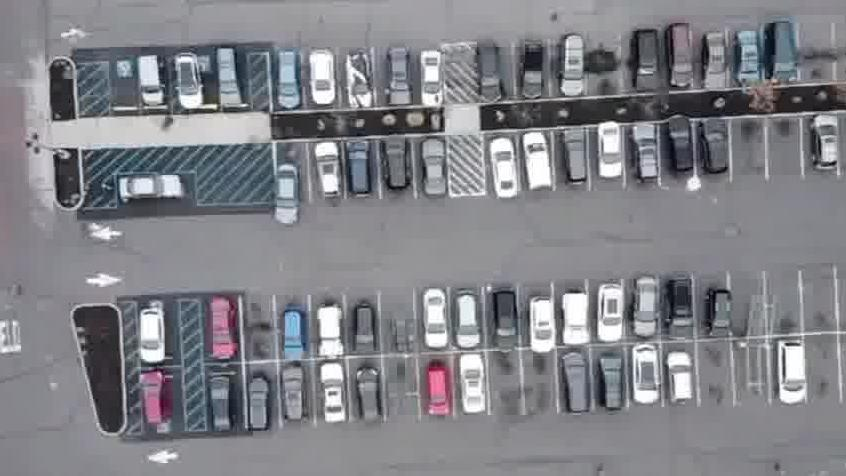car: (455, 351, 493, 418), (778, 339, 813, 409), (769, 20, 805, 85), (633, 28, 668, 93), (491, 135, 526, 200), (120, 169, 191, 201), (671, 22, 702, 91), (701, 119, 737, 178), (318, 363, 351, 427), (563, 353, 595, 419), (633, 347, 667, 409), (314, 138, 347, 201), (668, 115, 701, 178), (599, 352, 631, 415), (492, 290, 523, 355), (478, 39, 509, 103), (526, 133, 559, 193), (527, 296, 561, 354), (668, 278, 699, 341), (670, 348, 701, 411), (563, 129, 595, 190), (209, 294, 239, 359), (272, 162, 301, 227), (424, 285, 453, 350), (563, 31, 591, 98), (355, 363, 386, 423), (424, 362, 455, 422), (210, 367, 239, 431), (561, 290, 593, 348), (176, 51, 209, 107), (459, 287, 487, 353), (599, 284, 629, 345), (423, 137, 452, 199), (812, 115, 843, 173), (384, 135, 414, 194), (350, 138, 379, 199), (318, 300, 349, 357), (312, 47, 341, 107), (389, 45, 418, 105), (247, 370, 275, 432), (634, 123, 663, 182), (143, 367, 172, 426), (220, 45, 249, 103), (739, 29, 768, 87), (706, 287, 736, 343), (140, 305, 168, 364), (280, 48, 307, 109), (523, 37, 549, 100), (423, 47, 450, 107), (638, 275, 663, 339), (348, 50, 376, 107), (282, 363, 309, 422), (600, 122, 626, 183), (142, 52, 171, 105), (282, 306, 311, 359), (708, 31, 733, 92), (355, 304, 379, 357)
